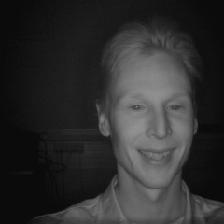happy: (89, 23, 208, 198)
